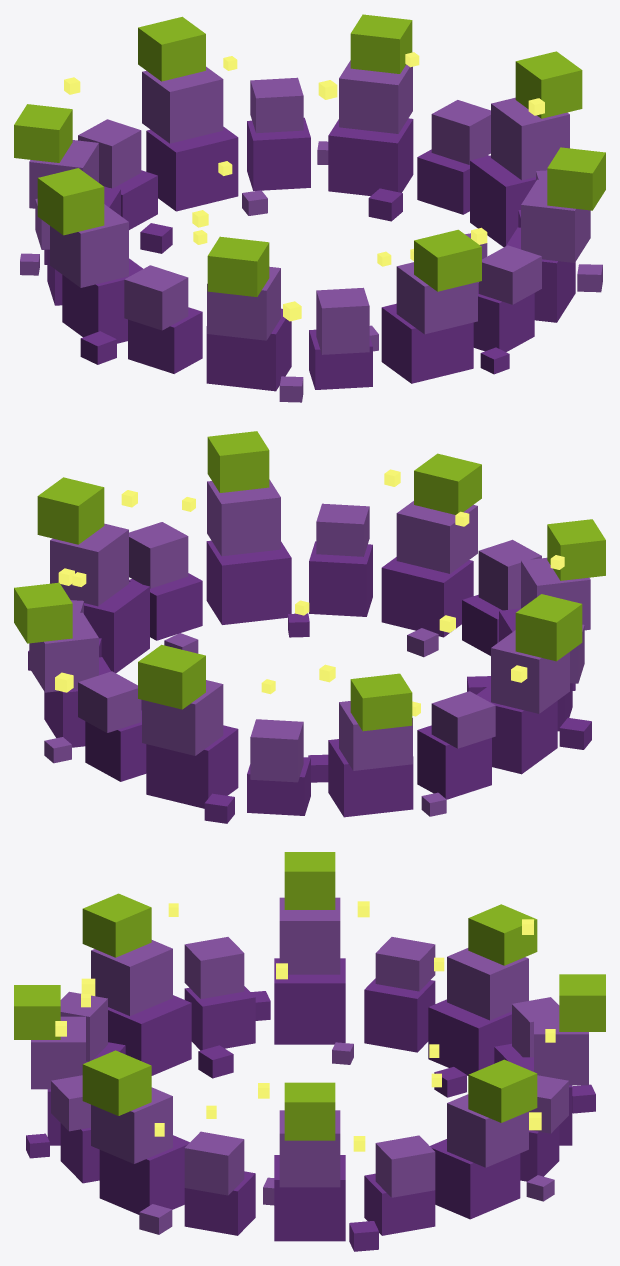
File: fx_pet_flop_splash.glb
3 renders of one model, top to bottom at view 1: azimuth 30°, elevation 25°; view 2: azimuth 150°, elevation 25°; view 3: azimuth 270°, elevation 25°, orthographic.
Visible parts, largest first — view 1: pet_flop_splash_splash_ring_Mesh1, pet_flop_splash_splash_sparks_Glow1; view 2: pet_flop_splash_splash_ring_Mesh1, pet_flop_splash_splash_sparks_Glow1; view 3: pet_flop_splash_splash_ring_Mesh1, pet_flop_splash_splash_sparks_Glow1.
Boxes of the visible parts, x1,y1,x2,y2 form: pet_flop_splash_splash_ring_Mesh1: [14, 14, 605, 402]; pet_flop_splash_splash_sparks_Glow1: [64, 52, 544, 321]; pet_flop_splash_splash_ring_Mesh1: [14, 431, 605, 823]; pet_flop_splash_splash_sparks_Glow1: [55, 469, 564, 716]; pet_flop_splash_splash_ring_Mesh1: [14, 852, 605, 1251]; pet_flop_splash_splash_sparks_Glow1: [55, 901, 555, 1151].
Size of the model in its own units: 7 by 2 by 7.
